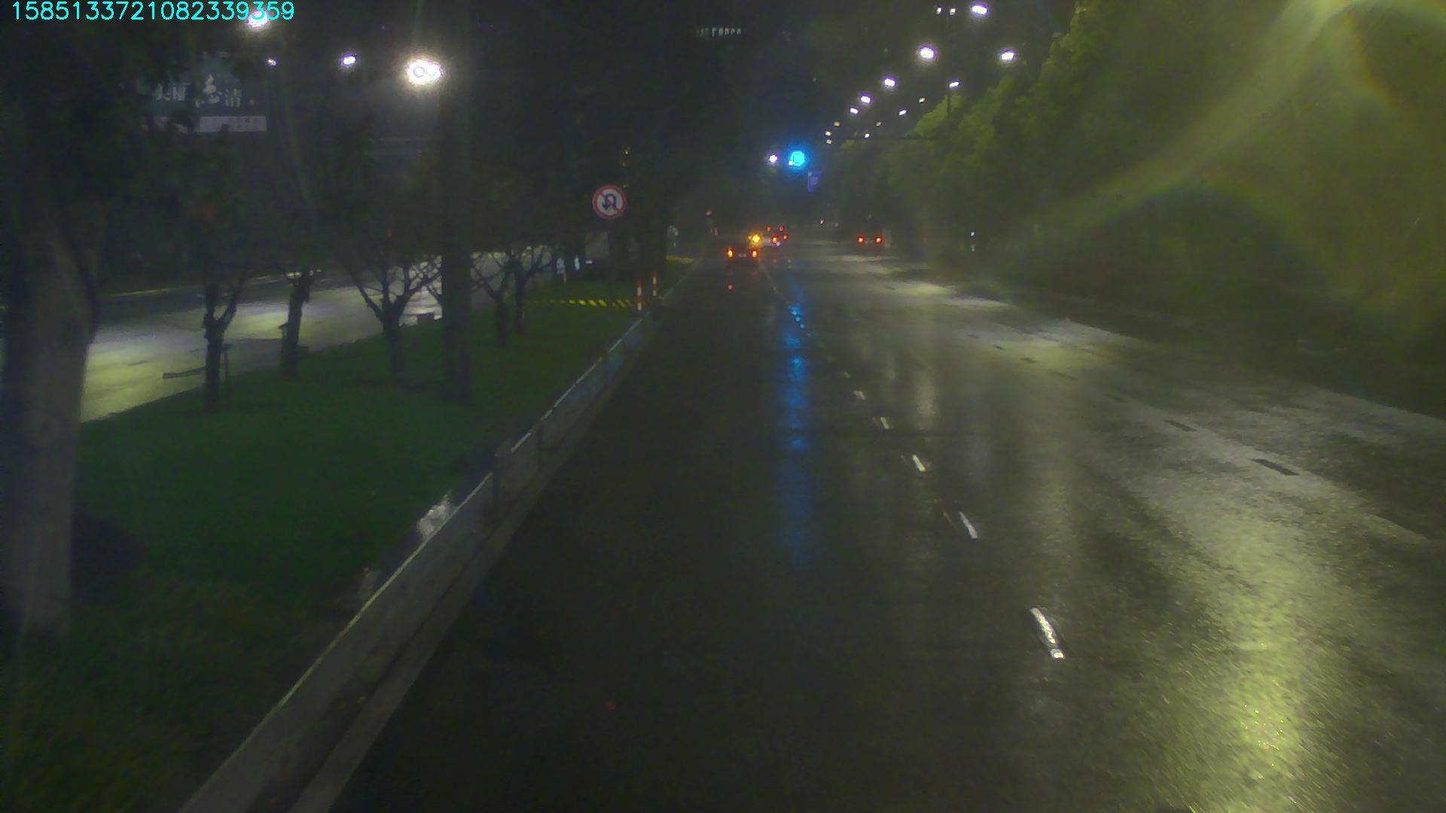green: (782, 146, 813, 171)
